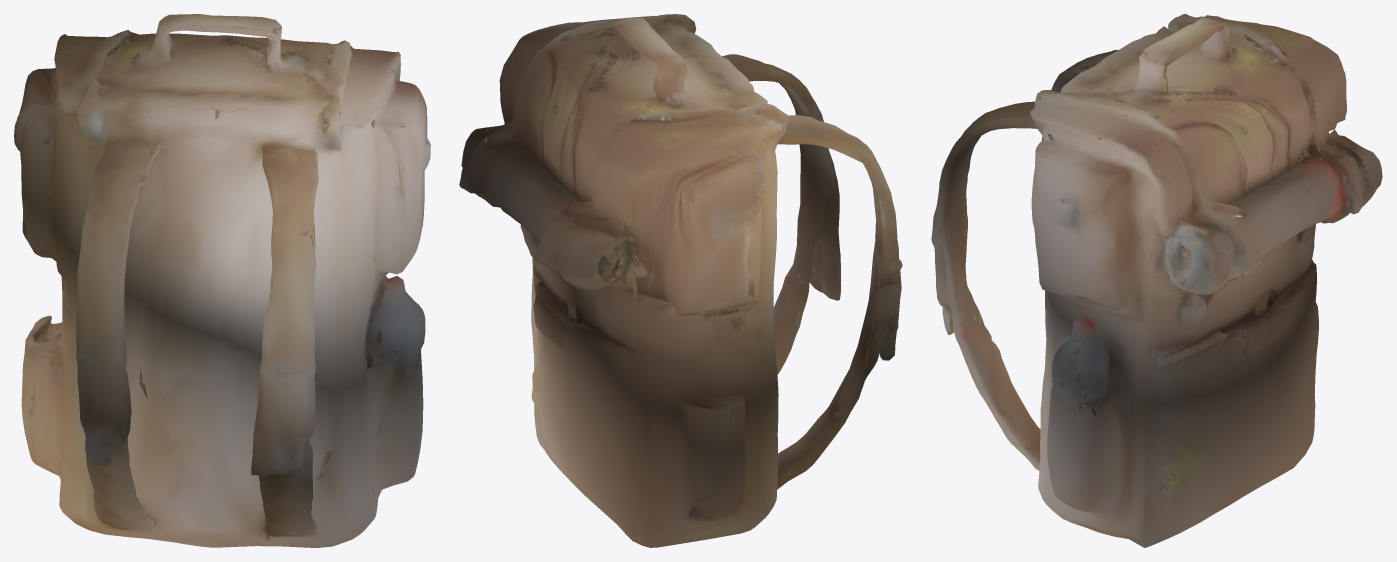
The model's file is backpack.glb.
3 views of the same model, side by side, from view 1: azimuth 30°, elevation 25°; view 2: azimuth 150°, elevation 25°; view 3: azimuth 270°, elevation 25° (orthographic). The views are drawn at different scales.
Bounding box in the file's own units: 1.34 × 1.6 × 1.43.
1 material, 1 textured.
